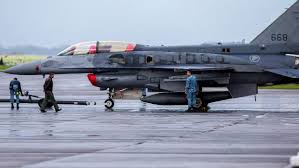fighter: (3, 1, 299, 109)
